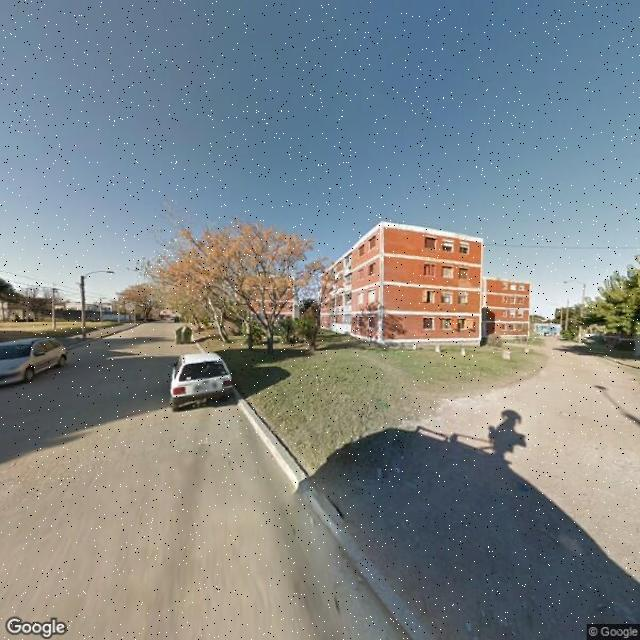garbage container: (172, 320, 197, 349)
